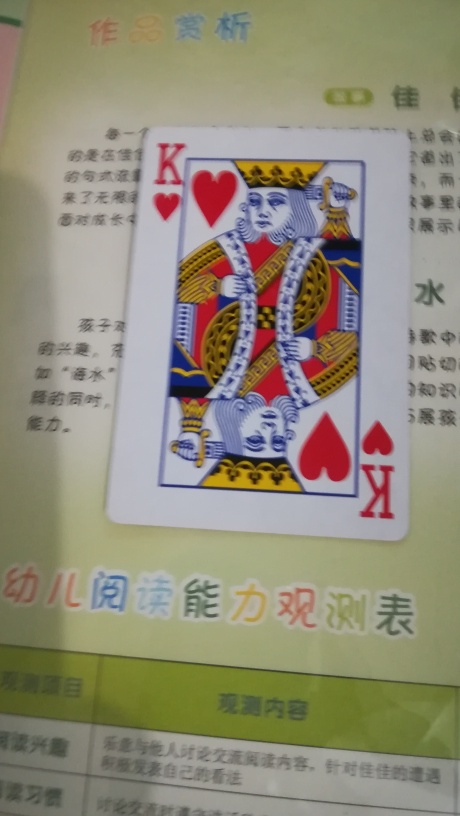hx k: (108, 125, 410, 541)
